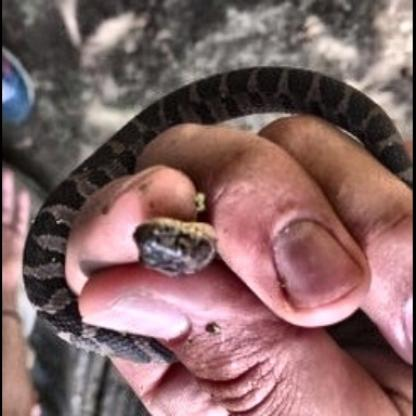Snake: (16, 14, 416, 414)
